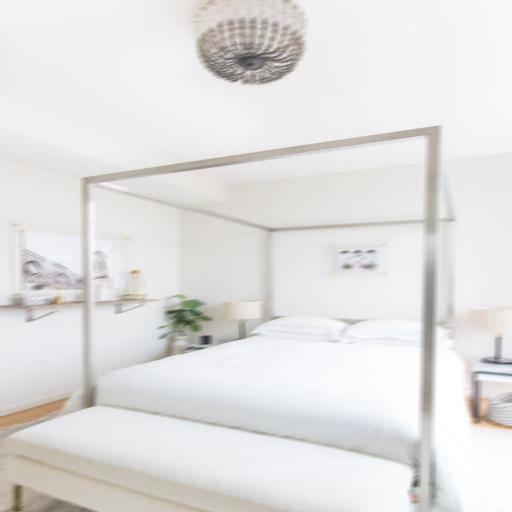bed: (58, 125, 475, 512)
sofa: (5, 405, 415, 512)
